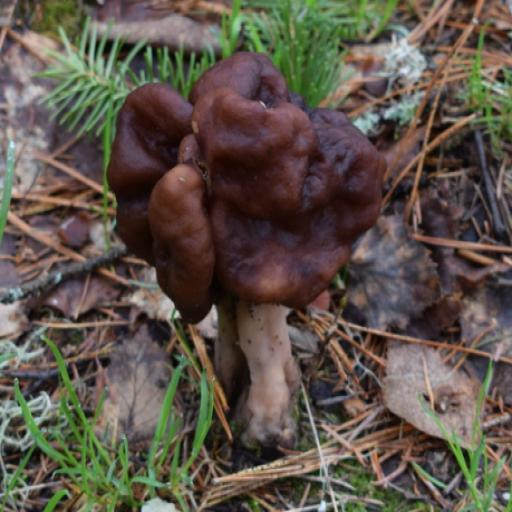mushroom: (105, 44, 389, 324)
